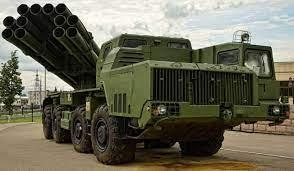rszo: (3, 2, 291, 171)
